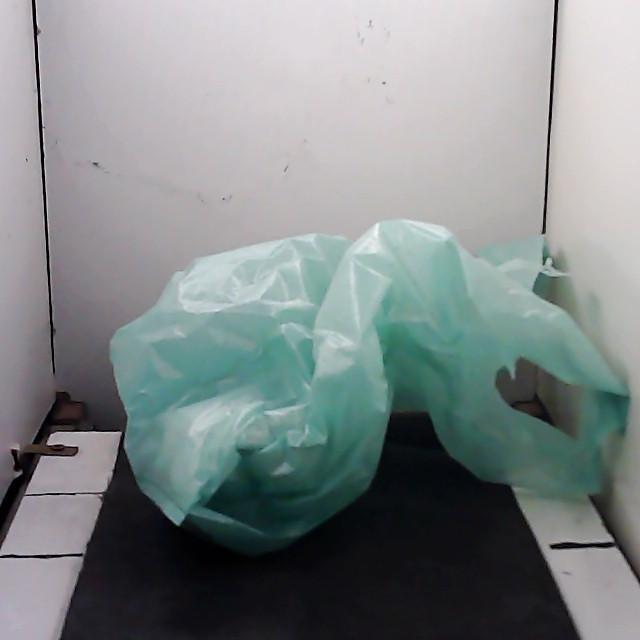plastico: (112, 220, 627, 554)
